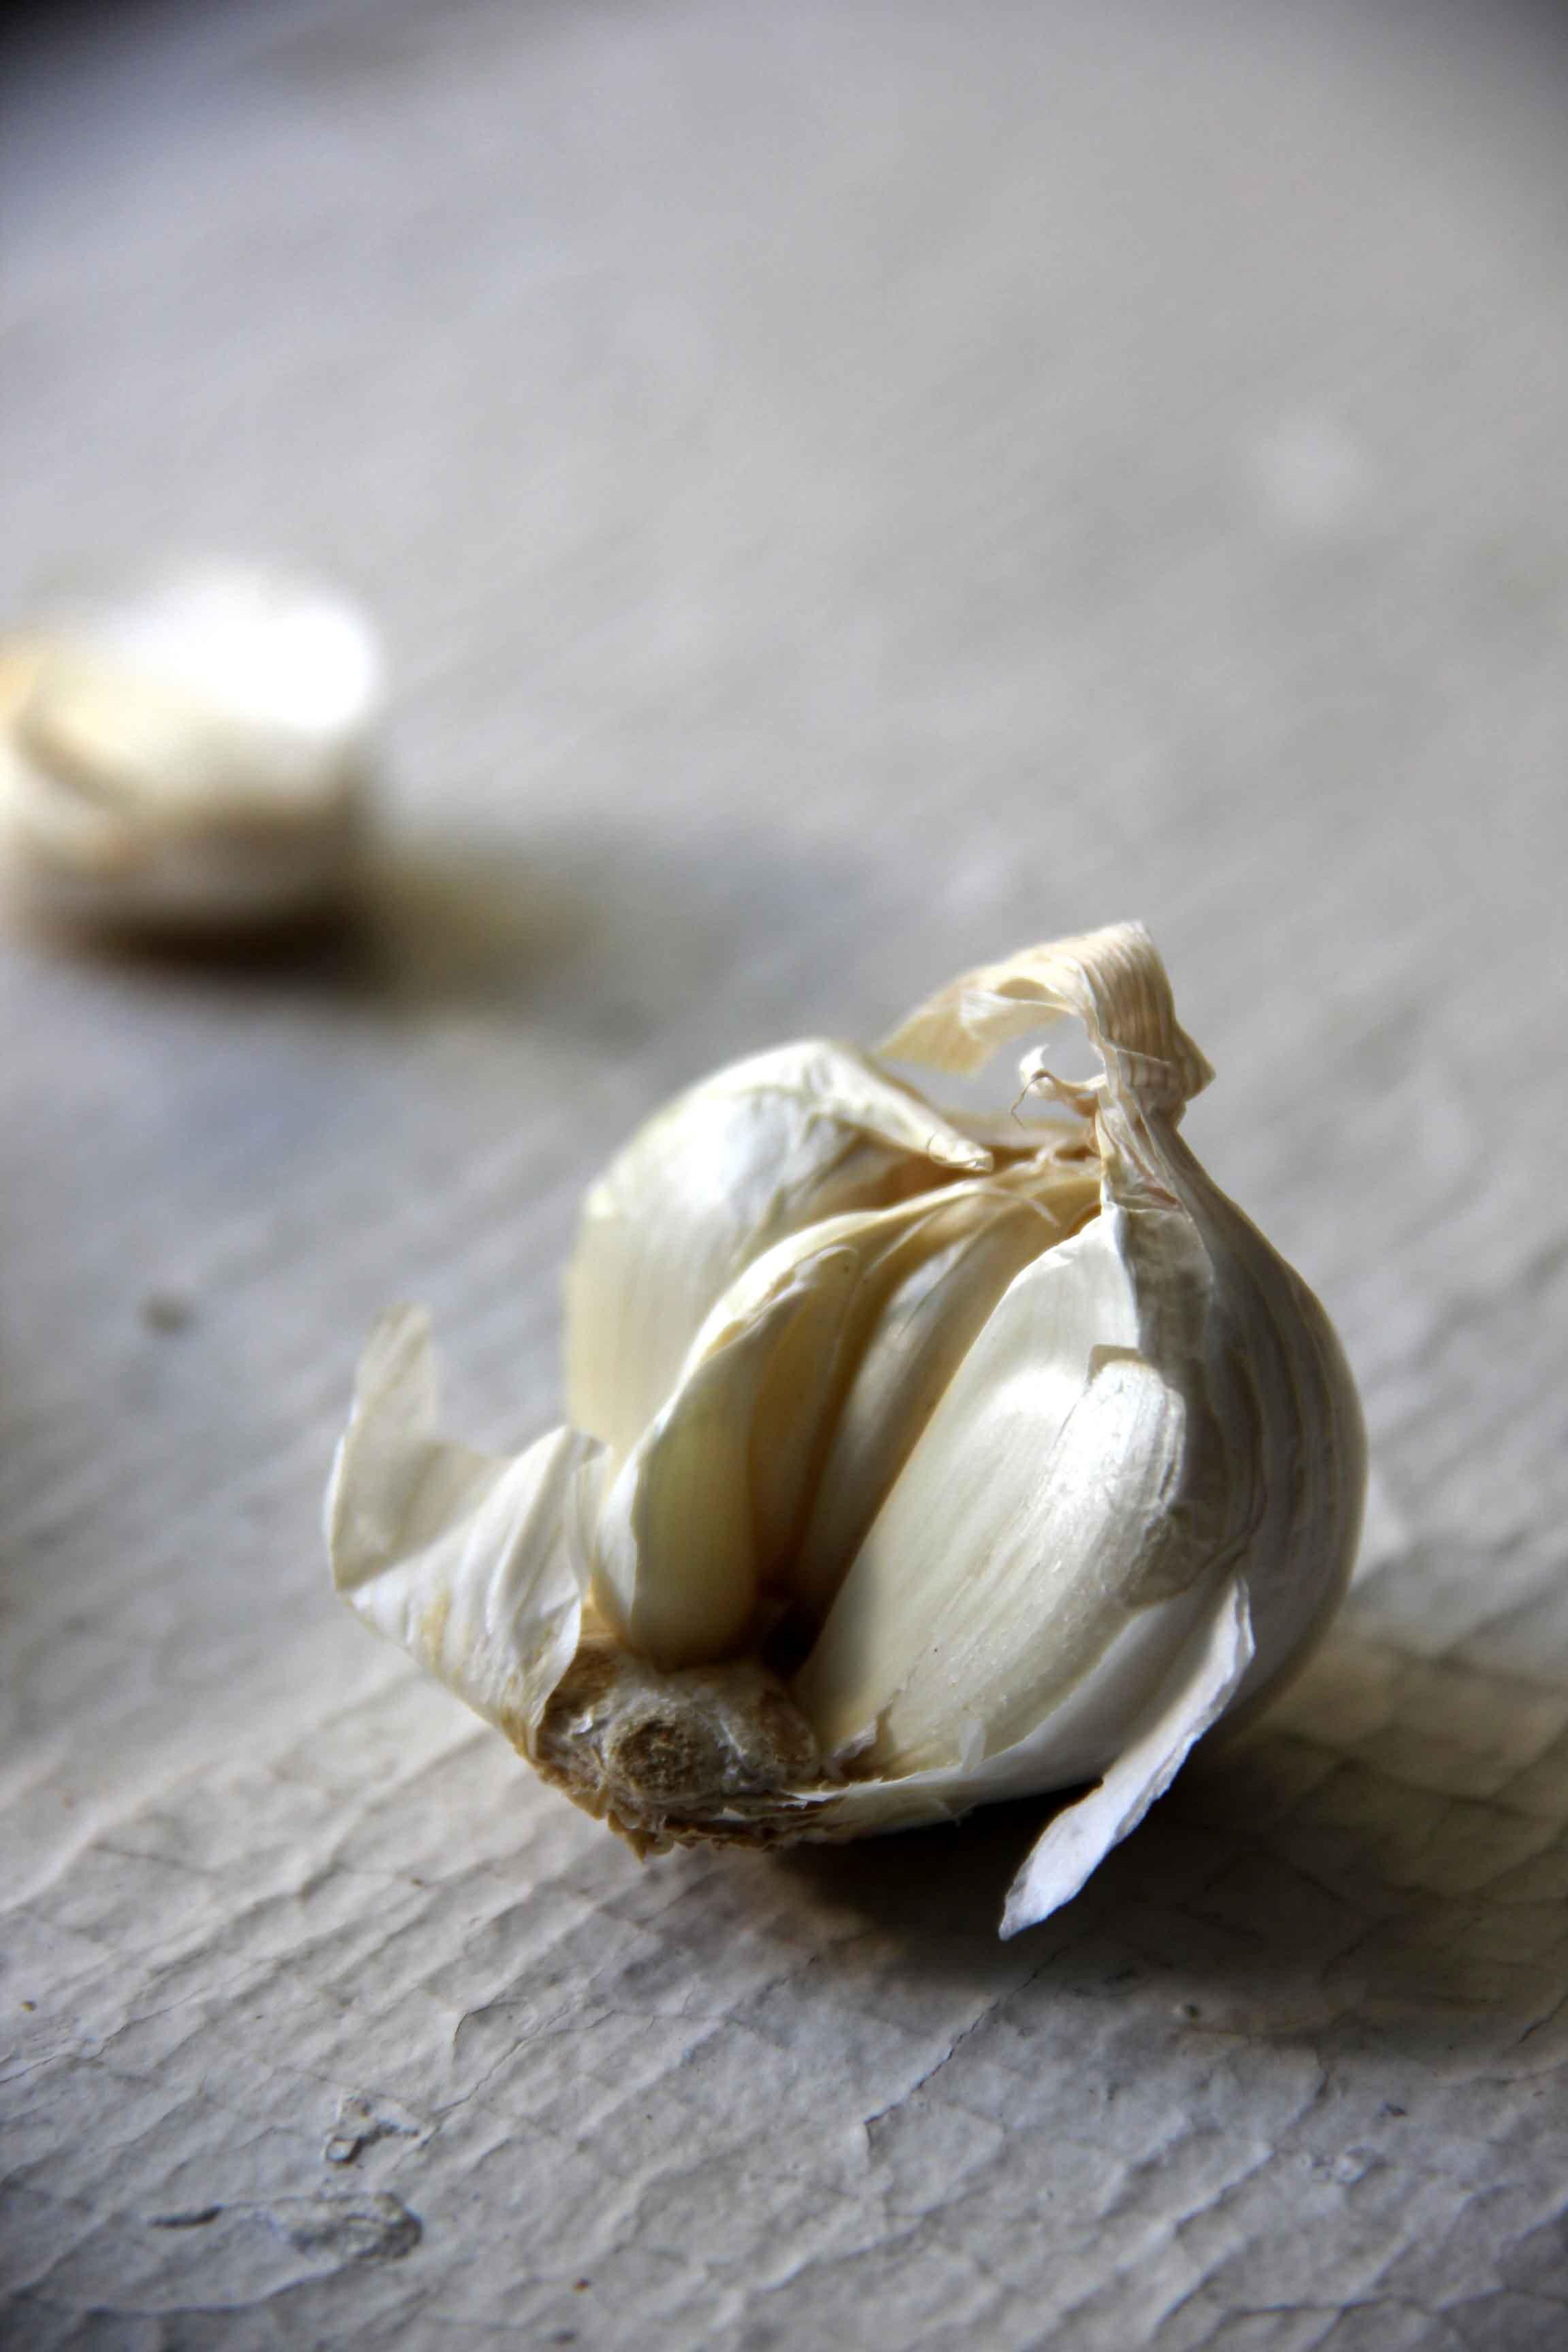garlic: (322, 917, 1370, 1941)
